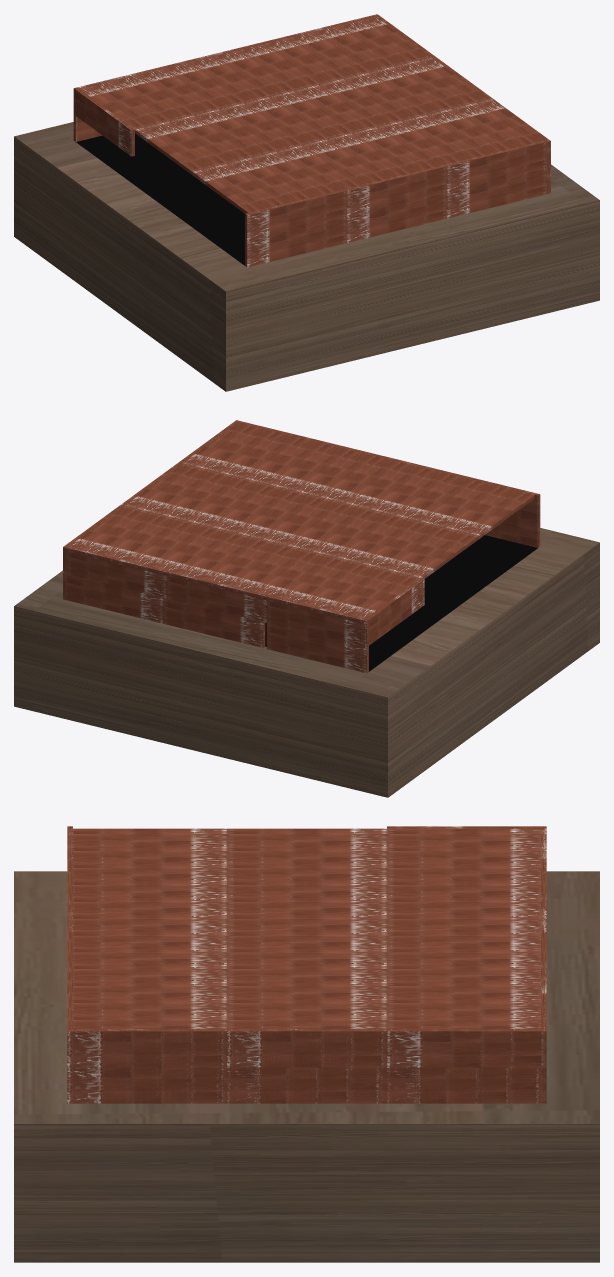
The model's file is TILED COFFEE TABLE.glb.
The picture shows the model from 3 angles, top to bottom: view 1: azimuth 30°, elevation 25°; view 2: azimuth 150°, elevation 25°; view 3: azimuth 270°, elevation 25°; orthographic projection. The views are drawn at different scales.
Bounding box in the file's own units: 0.897 × 0.35 × 0.88.
Materials: 3 (2 with a texture image).
